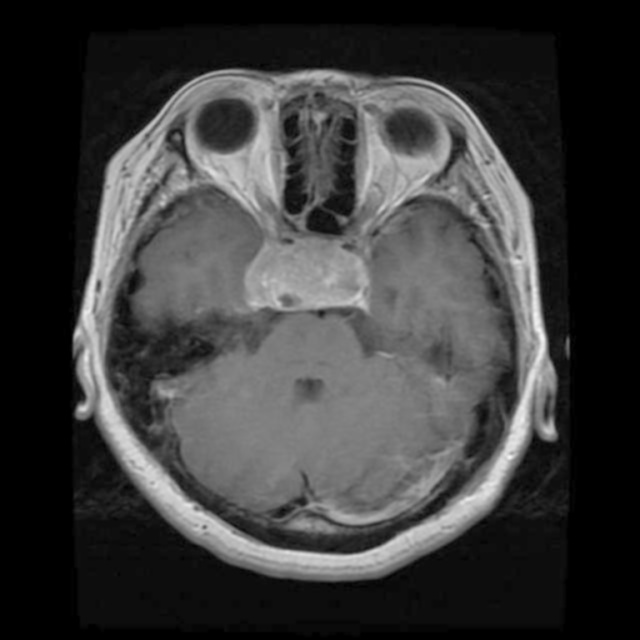no tumor: (242, 232, 378, 318)
